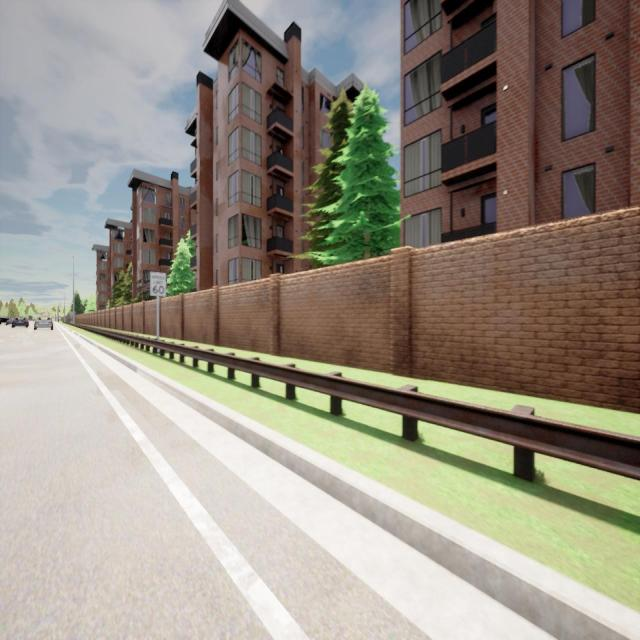Traffic_Signs: (150, 272, 166, 296)
Vehicle: (34, 316, 53, 330), (12, 315, 29, 328), (6, 318, 12, 326)
